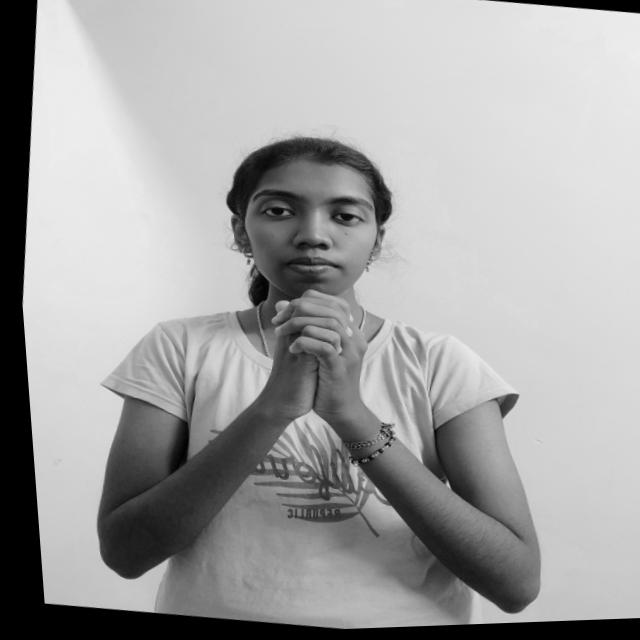Sorry: (233, 277, 390, 441)
